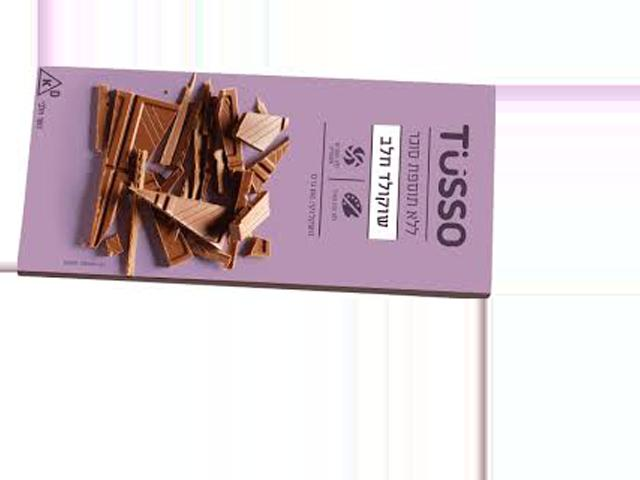chocolate: (15, 77, 485, 284)
